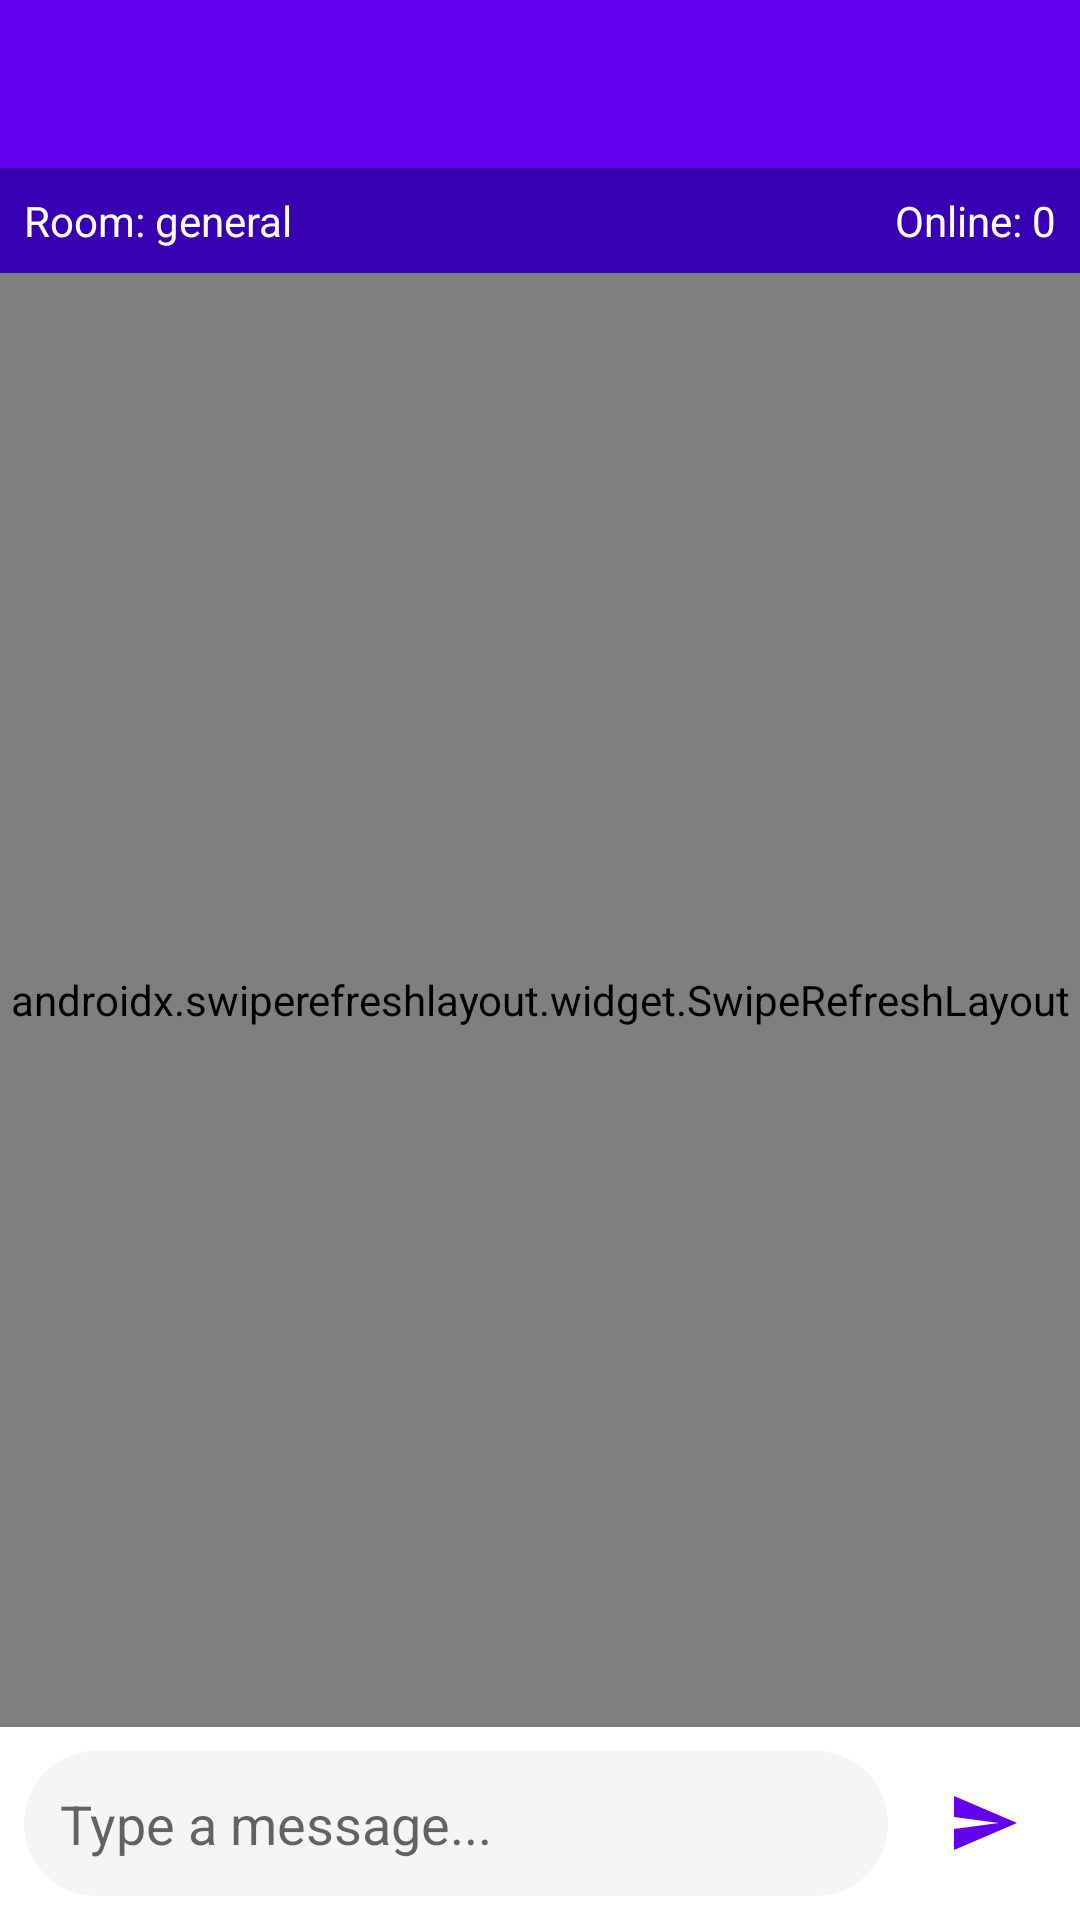

Where to tap for icons on this 1080w x 1920h app screen, as point (x, y):
send: point (985, 1823)
